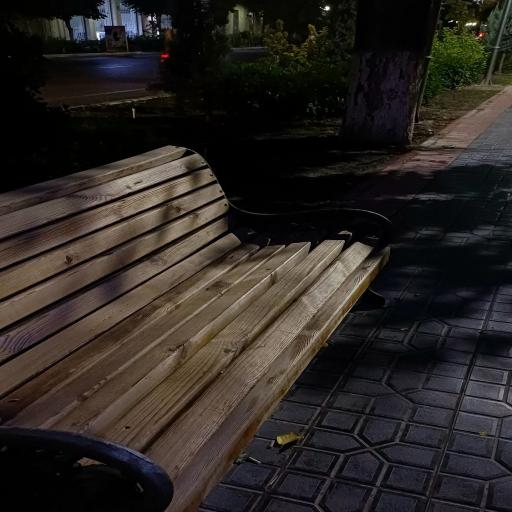glass_wall: (200, 87, 512, 512)
trash_bin: (0, 146, 390, 511)
